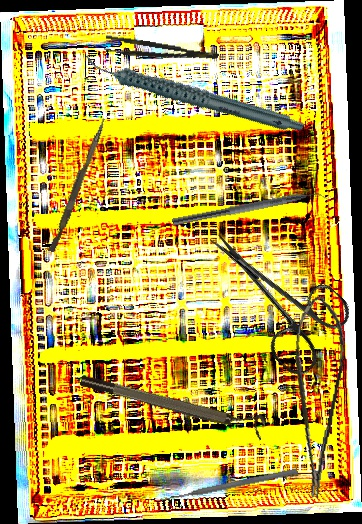Chopper: (171, 185, 333, 237)
Fixation Ring: (78, 363, 268, 442)
Handpiece: (82, 12, 305, 175)
Iris Scissors: (181, 204, 361, 382)
Micro Scissor: (272, 294, 354, 499)
Pusher: (48, 116, 107, 254), (158, 466, 299, 505)
Tissue Forceps: (103, 34, 220, 70)
